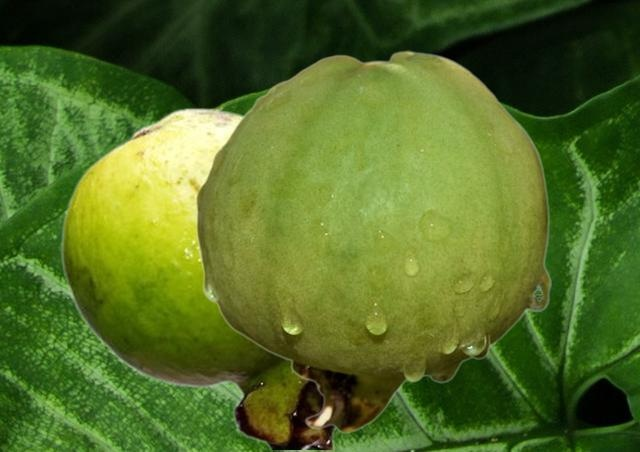guava: (195, 50, 550, 432), (60, 107, 338, 448)
